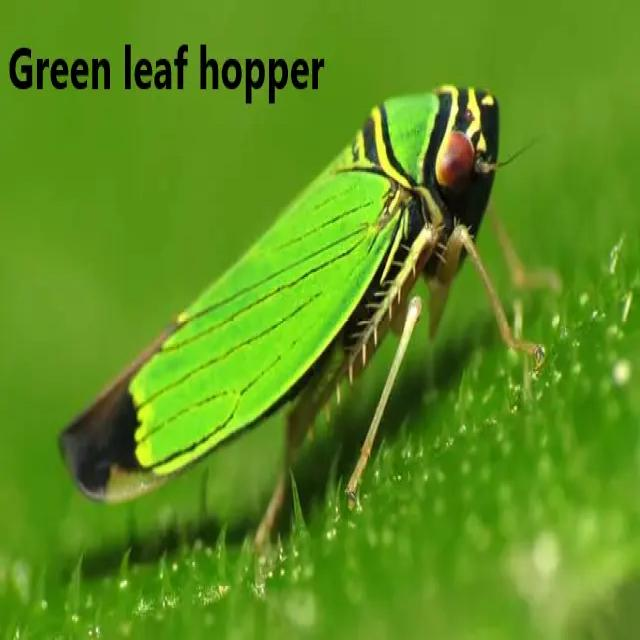Yechan: (41, 72, 535, 530)
